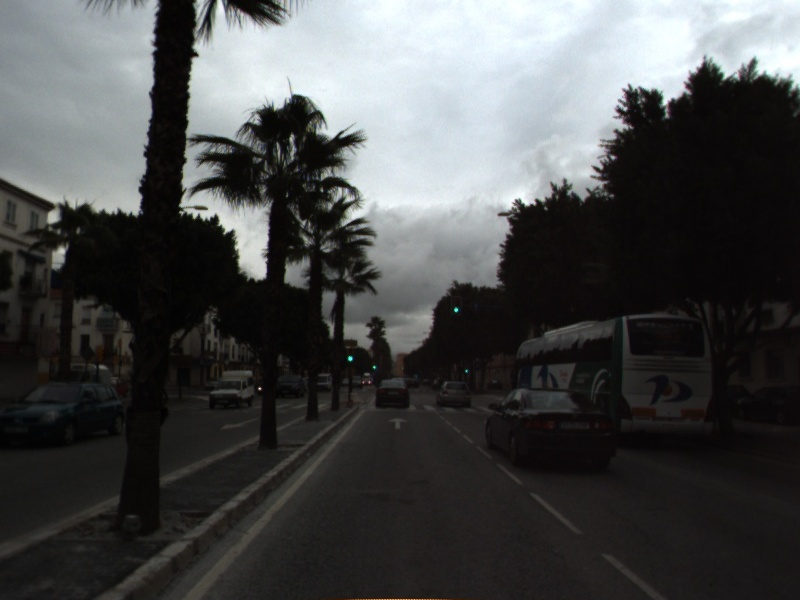STRAIGHT: (386, 415, 410, 431)
